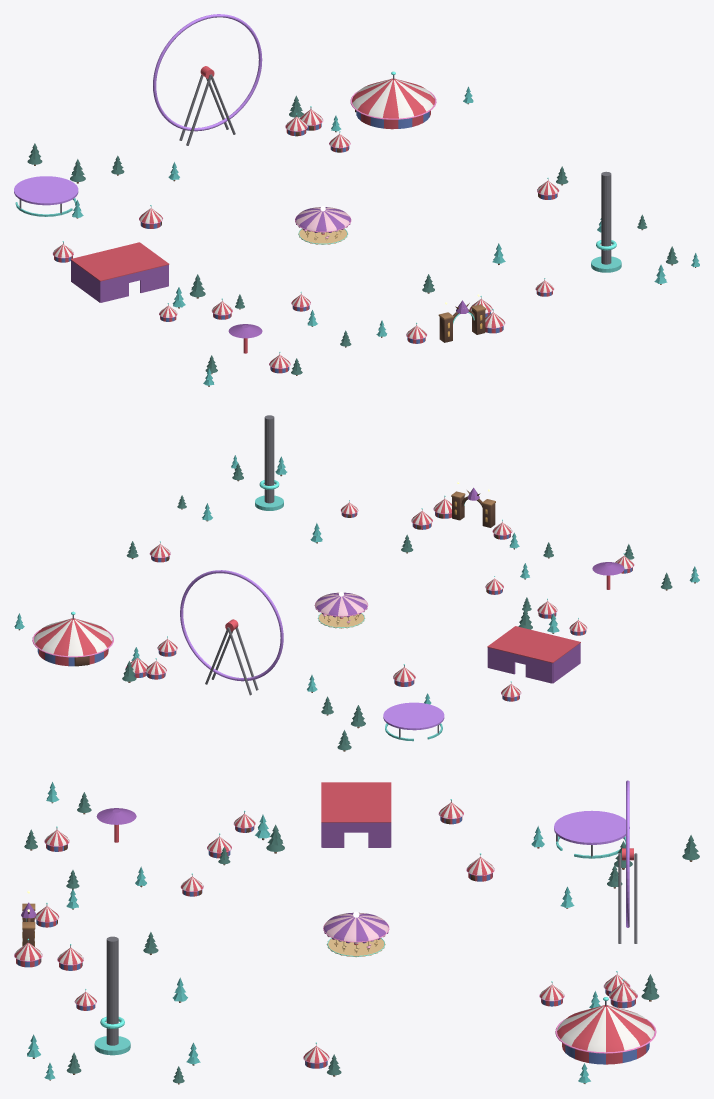
File: CursedCandyCarnival_MainStructures.fbx
The picture shows the model from 3 angles, top to bottom: view 1: azimuth 30°, elevation 25°; view 2: azimuth 150°, elevation 25°; view 3: azimuth 270°, elevation 25°; orthographic projection. The views are drawn at different scales.
Parts seen in each view (by area): view 1: CUR_CircusTent_Small, CUR_PuppetTheatre_Roof, CUR_BumperArena_Roof, CUR_CandyFerrisWheel_Rim, CUR_Carousel_Top, CUR_Carnival_GothicGate, CUR_DropTower, CUR_PuppetTheatre_Wall_06, CUR_PuppetTheatre_Wall, CUR_PuppetTheatre_Wall_01; view 2: CUR_CircusTent_Small, CUR_PuppetTheatre_Roof, CUR_BumperArena_Roof, CUR_CandyFerrisWheel_Rim, CUR_Carousel_Top, CUR_DropTower, CUR_Carnival_GothicGate, CUR_PuppetTheatre_Wall_06, CUR_PuppetTheatre_Wall_05, CUR_PuppetTheatre_Wall_04; view 3: CUR_CircusTent_Small, CUR_PuppetTheatre_Roof, CUR_BumperArena_Roof, CUR_Carousel_Top, CUR_DropTower, CUR_Carousel_Base, CUR_PuppetTheatre_Wall_02, CUR_PuppetTheatre_Wall_03, CUR_CandyFerrisWheel_Rim, CUR_Carnival_GothicGate, CUR_SwingRide_Top, CUR_CircusTent_Small_11 (+3 smaller).
Boxes of the visible parts, <box> form: CUR_CircusTent_Small: <box>350,71,436,129</box>; CUR_PuppetTheatre_Roof: <box>70,242,169,281</box>; CUR_BumperArena_Roof: <box>14,176,78,205</box>; CUR_CandyFerrisWheel_Rim: <box>153,14,262,131</box>; CUR_Carousel_Top: <box>295,206,351,240</box>; CUR_Carnival_GothicGate: <box>438,294,486,342</box>; CUR_DropTower: <box>601,171,611,264</box>; CUR_PuppetTheatre_Wall_06: <box>71,260,100,302</box>; CUR_PuppetTheatre_Wall: <box>100,274,128,302</box>; CUR_PuppetTheatre_Wall_01: <box>140,265,168,292</box>; CUR_CircusTent_Small: <box>32,611,113,666</box>; CUR_PuppetTheatre_Roof: <box>487,626,580,663</box>; CUR_BumperArena_Roof: <box>383,702,444,730</box>; CUR_CandyFerrisWheel_Rim: <box>180,570,283,681</box>; CUR_Carousel_Top: <box>314,591,368,624</box>; CUR_DropTower: <box>264,415,274,503</box>; CUR_Carnival_GothicGate: <box>451,481,495,527</box>; CUR_PuppetTheatre_Wall_06: <box>552,643,580,683</box>; CUR_PuppetTheatre_Wall_05: <box>525,657,552,683</box>; CUR_PuppetTheatre_Wall_04: <box>488,647,515,674</box>; CUR_CircusTent_Small: <box>555,997,656,1064</box>; CUR_PuppetTheatre_Roof: <box>321,782,391,822</box>; CUR_BumperArena_Roof: <box>554,810,629,844</box>; CUR_Carousel_Top: <box>323,911,389,953</box>; CUR_DropTower: <box>106,936,118,1045</box>; CUR_Carousel_Base: <box>326,938,385,957</box>; CUR_PuppetTheatre_Wall_02: <box>322,822,344,847</box>; CUR_PuppetTheatre_Wall_03: <box>368,822,390,847</box>; CUR_CandyFerrisWheel_Rim: <box>626,780,629,927</box>; CUR_Carnival_GothicGate: <box>21,890,36,946</box>; CUR_SwingRide_Top: <box>96,808,136,824</box>; CUR_CircusTent_Small_11: <box>609,979,637,1008</box>.
Size of the model in its own units: 337 by 87.55 by 344.
